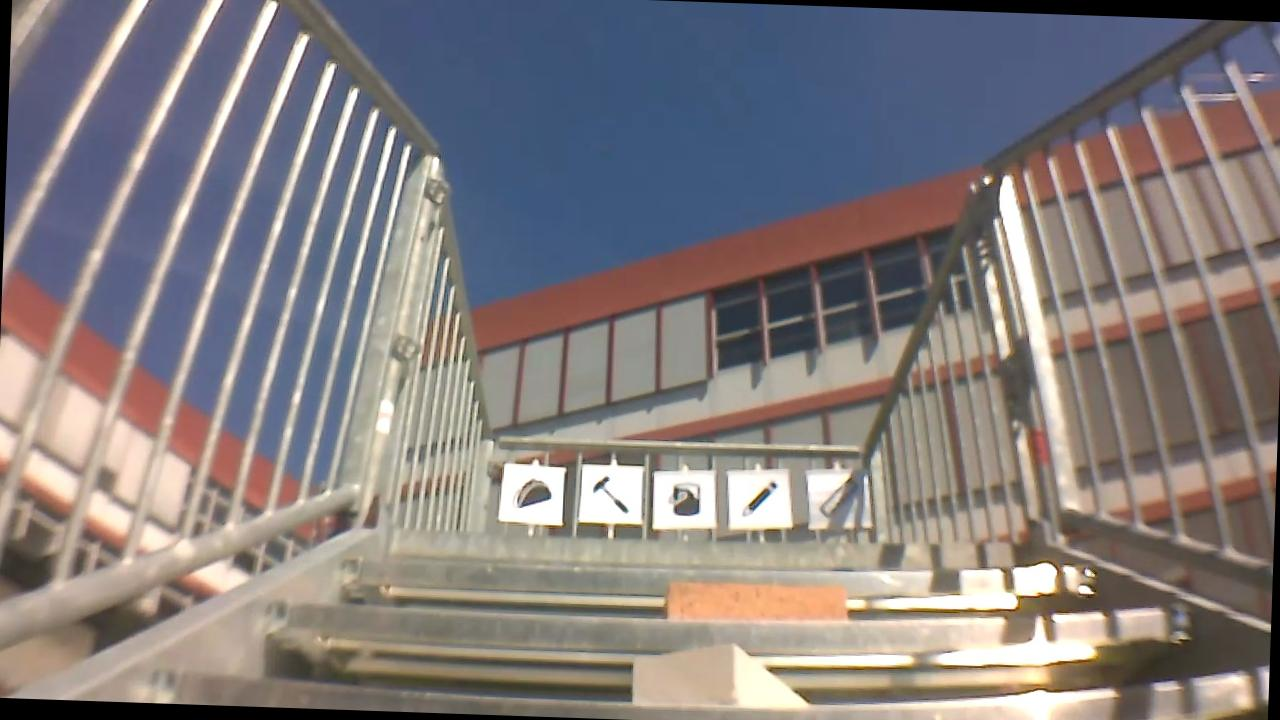brick: (636, 639, 832, 713), (660, 576, 848, 625)
edge: (260, 572, 1209, 679), (156, 646, 1269, 720), (337, 546, 1092, 605), (395, 512, 1034, 571)
steps: (14, 493, 1274, 720)
